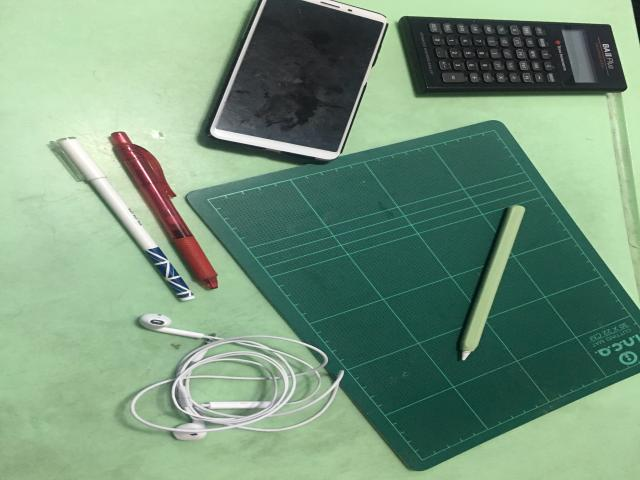Mobile phone: (208, 0, 387, 161)
Pen: (55, 137, 193, 301), (112, 132, 218, 289)
wire: (130, 314, 343, 441)
